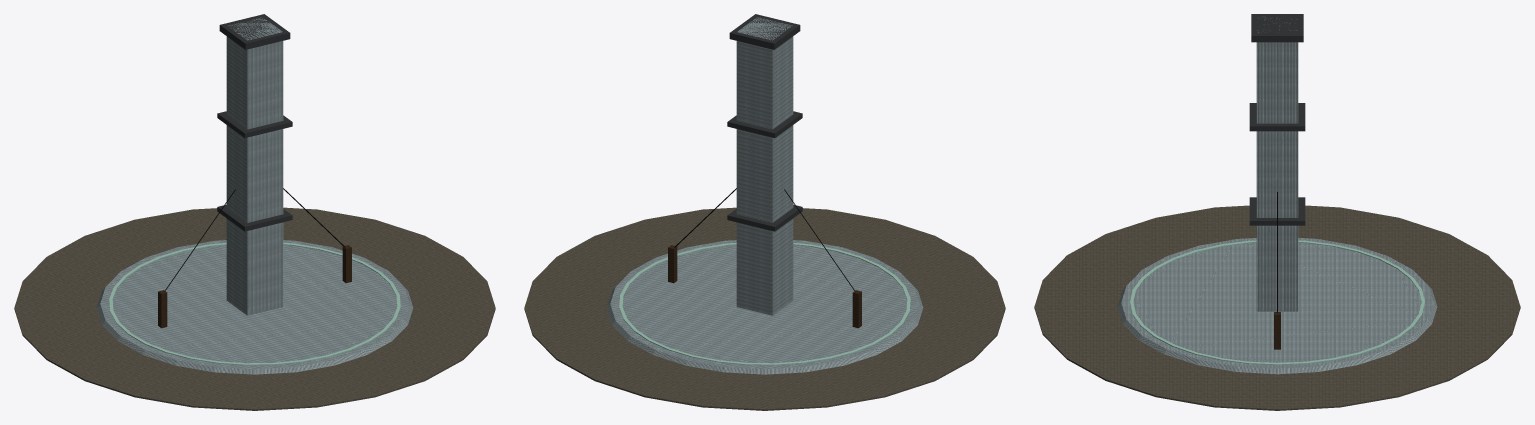
Rendered from skyport_mooring_tower_01.glb.
The picture shows the model from 3 angles, left to right: view 1: azimuth 30°, elevation 25°; view 2: azimuth 150°, elevation 25°; view 3: azimuth 270°, elevation 25°; orthographic projection.
Visible parts, largest first — view 1: skyport_mooring_tower_01; view 2: skyport_mooring_tower_01; view 3: skyport_mooring_tower_01.
Boxes of the visible parts, x1,y1,x2,y2 form: skyport_mooring_tower_01: (14,14,495,410); skyport_mooring_tower_01: (524,14,1005,410); skyport_mooring_tower_01: (1034,14,1520,410).
Bounding box in the file's own units: 28 × 18 × 28.
Materials: 6 (6 with a texture image).
